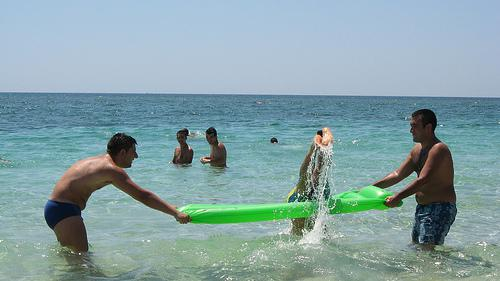human: (41, 134, 180, 252), (370, 106, 438, 250), (196, 125, 224, 168), (171, 127, 193, 165), (268, 137, 282, 144)
